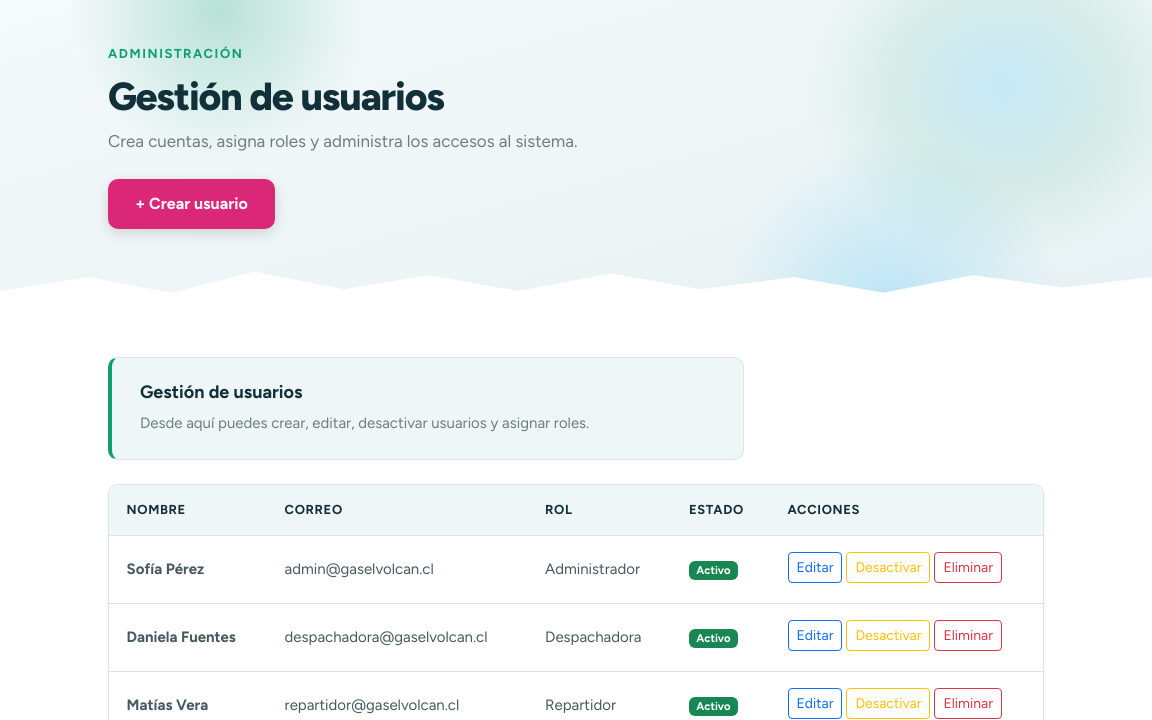
Scenario: Gestión de usuarios › marca todos los errores si se envía vacío
This screenshot has width=1152, height=720.
Click the button "+ Crear usuario" at [191, 204], box [108, 179, 275, 229]
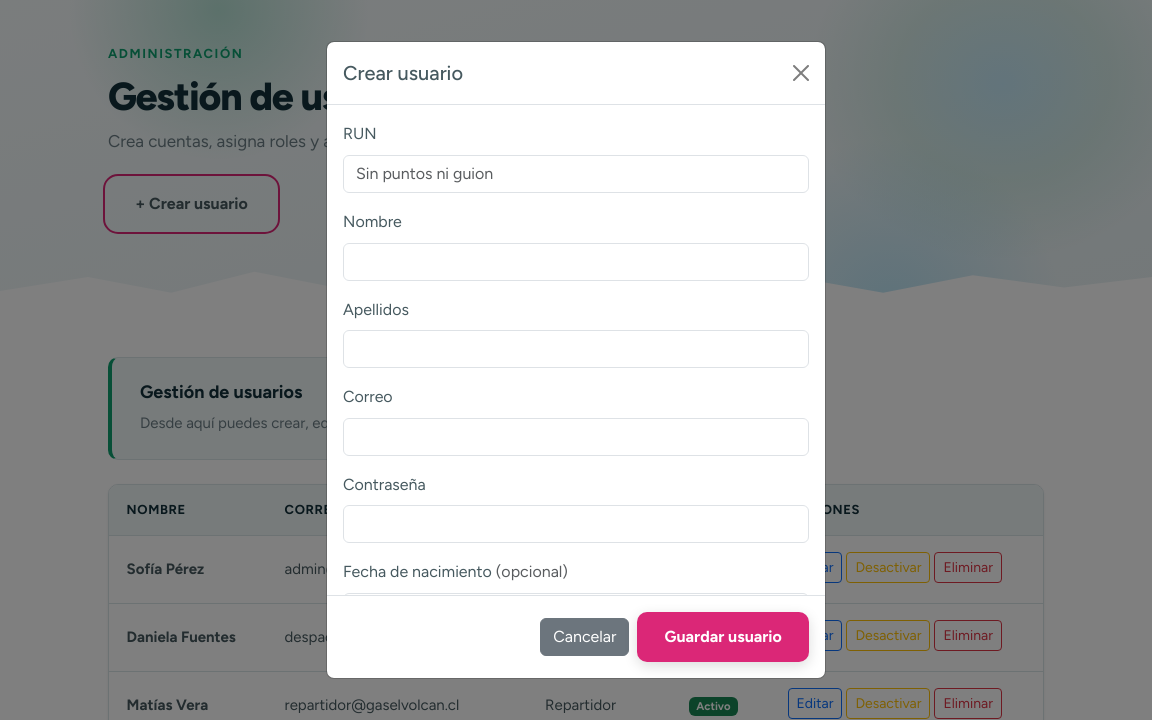
Click the button "Guardar usuario" at [723, 637], box [637, 612, 809, 662]
(page scrolled)
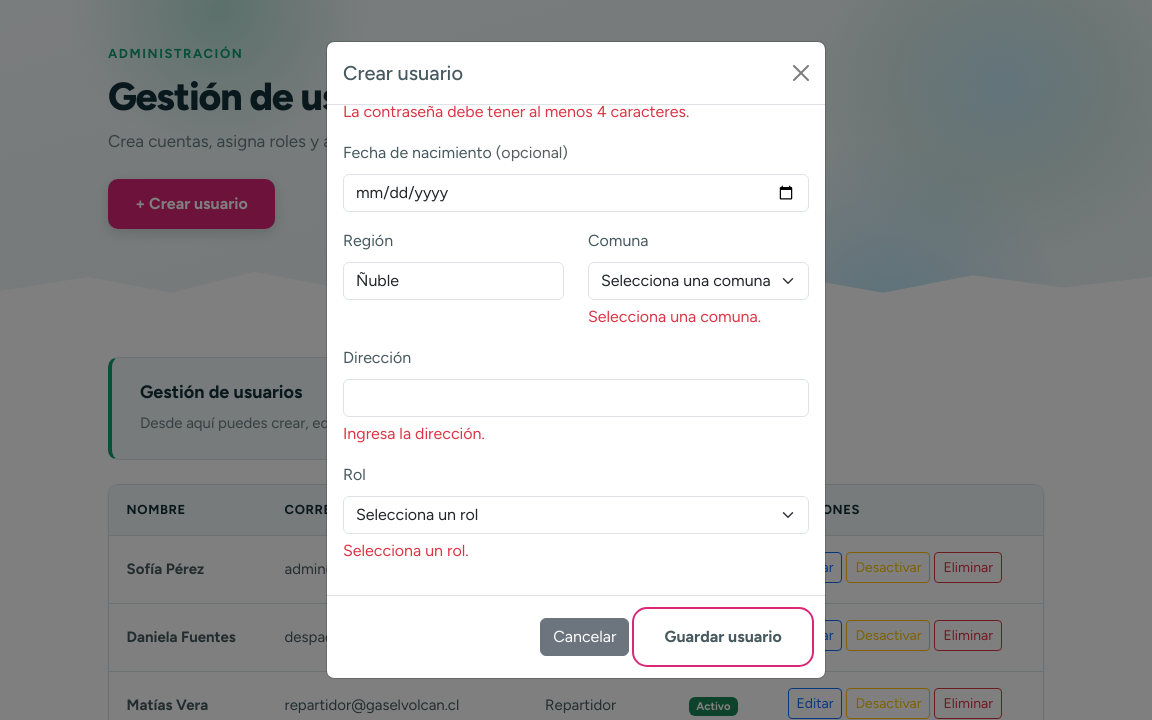
Expected: the text "Selecciona un rol." is shown, [343, 541, 468, 560]
